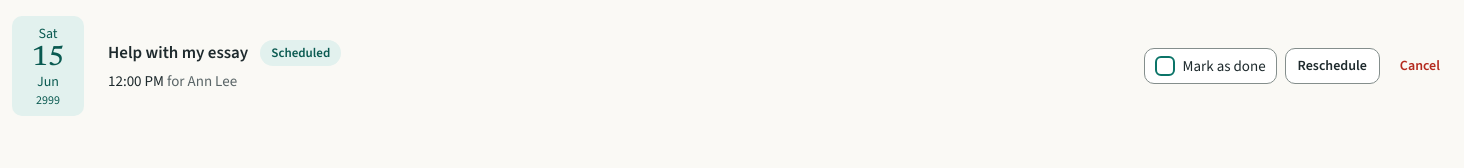
ConsultationItem server errors › 409 shows the message and refreshes the stale row
Click the checkbox named "Mark as done: Help with my essay": {"x": 1165, "y": 66} x1=1155 y1=56 x2=1175 y2=76
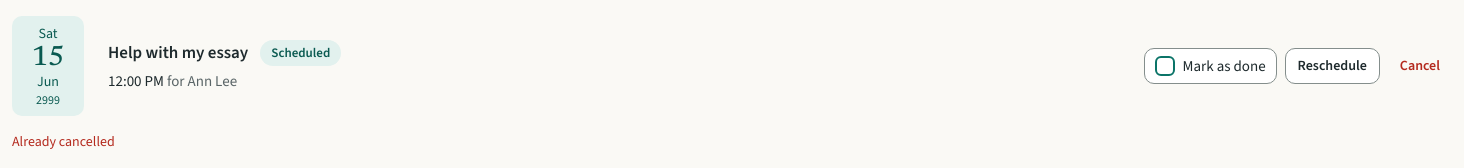
Expected: the message reads "Already cancelled", x1=12 y1=132 x2=115 y2=151
